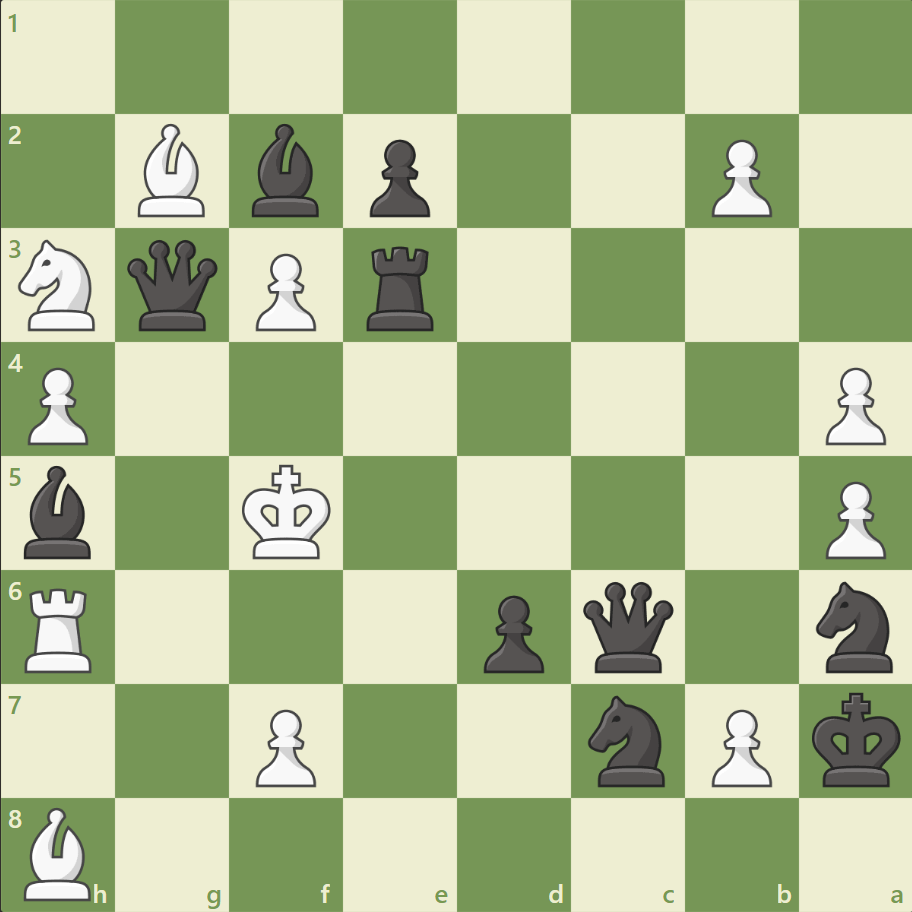B: (17, 801, 101, 904), (131, 120, 215, 222)
K: (238, 458, 338, 566)
N: (11, 234, 108, 337)
P: (701, 700, 776, 791), (247, 700, 322, 791), (20, 359, 95, 450), (247, 246, 322, 337), (701, 132, 776, 223), (815, 473, 889, 564), (815, 359, 889, 450)
R: (19, 579, 102, 676)
b: (17, 460, 101, 563), (244, 120, 328, 222)
k: (806, 685, 906, 793)
n: (579, 688, 676, 791), (806, 575, 903, 677)
p: (474, 586, 549, 677), (361, 132, 435, 223)
q: (578, 576, 677, 676), (124, 236, 223, 335)
r: (360, 239, 442, 336)
